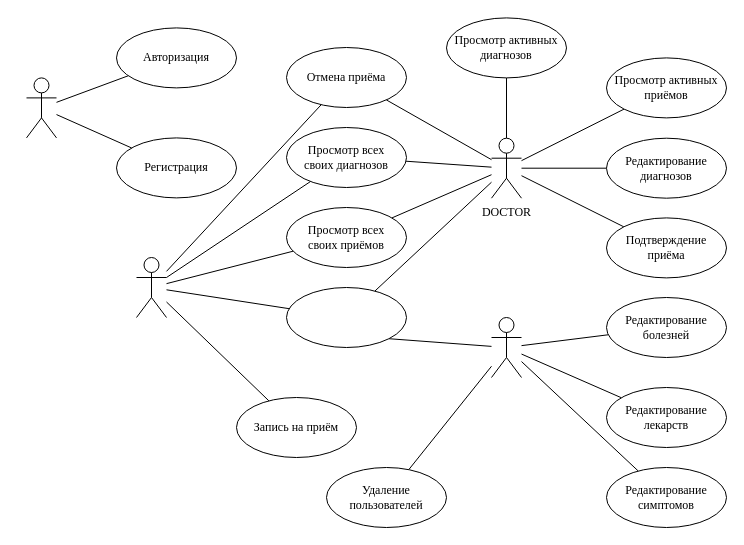
Some shapes in this 744 by 545 pixel diagram are drawn without their labels. The shapes that lost their labels are listed below. From the top down, each one's centre as x and y in pixels, then its label:
At [41,107]: "LOGREG".
At [151,287]: "PATIENT".
At [346,317]: "Редактирование своих данных".
At [506,347]: "ADMIN".
